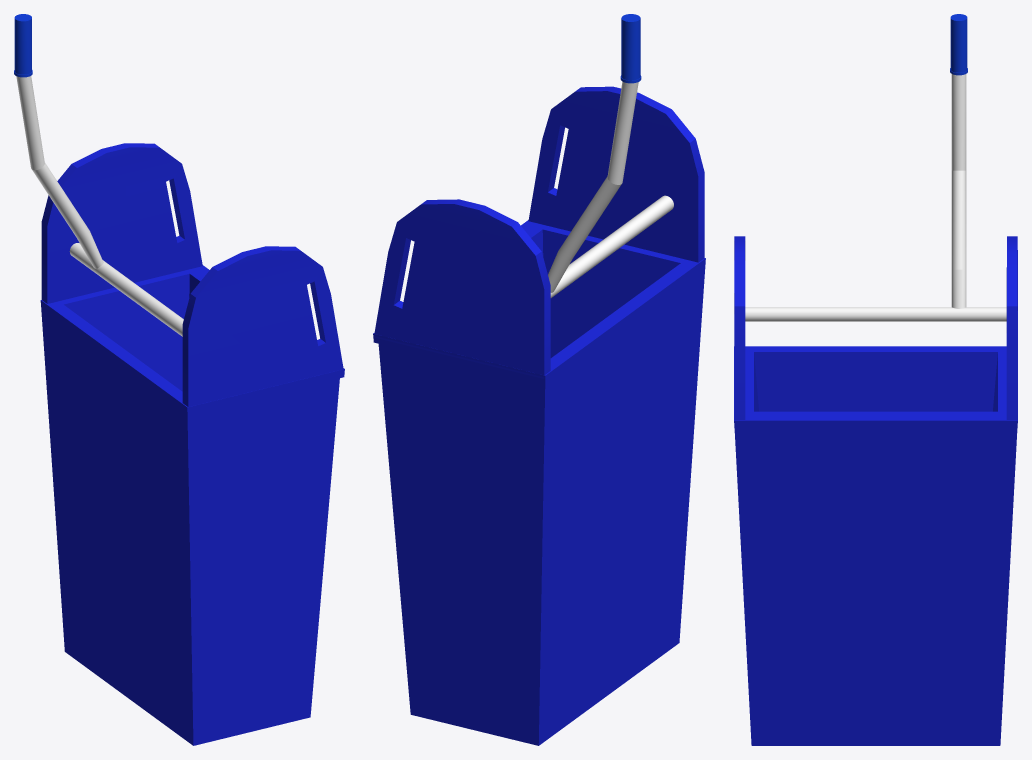
The model's file is bucket_3.fbx.
3 renders of one model, left to right at view 1: azimuth 30°, elevation 25°; view 2: azimuth 150°, elevation 25°; view 3: azimuth 270°, elevation 25°, orthographic. The views are drawn at different scales.
Parts seen in each view (by area): view 1: Cube.063, Cylinder.018; view 2: Cube.063, Cylinder.018; view 3: Cube.063, Cylinder.018.
Boxes of the visible parts, x1,y1,x2,y2 form: Cube.063: (40, 143, 344, 745); Cylinder.018: (14, 14, 183, 336); Cube.063: (373, 86, 705, 745); Cylinder.018: (548, 14, 673, 297); Cube.063: (734, 236, 1017, 745); Cylinder.018: (745, 14, 1006, 321).
Size of the model in its own units: 22.07 by 65.72 by 26.28.
